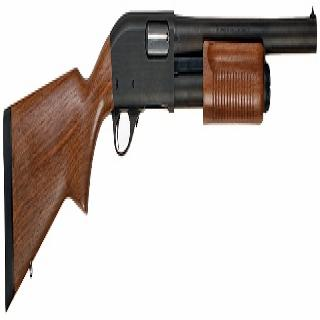gun: (2, 2, 317, 308)
